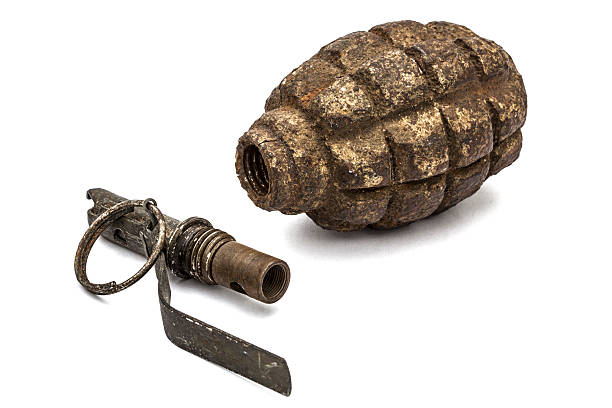e1: (229, 16, 526, 234)
